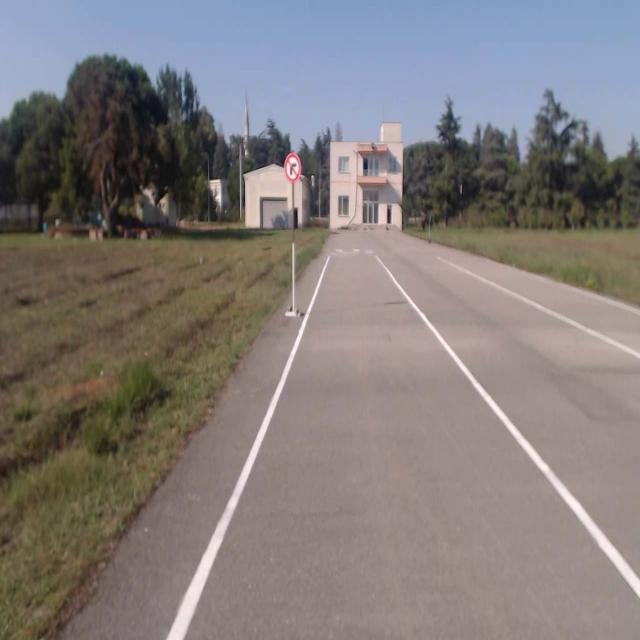sagadonulmez: (285, 154, 300, 181)
